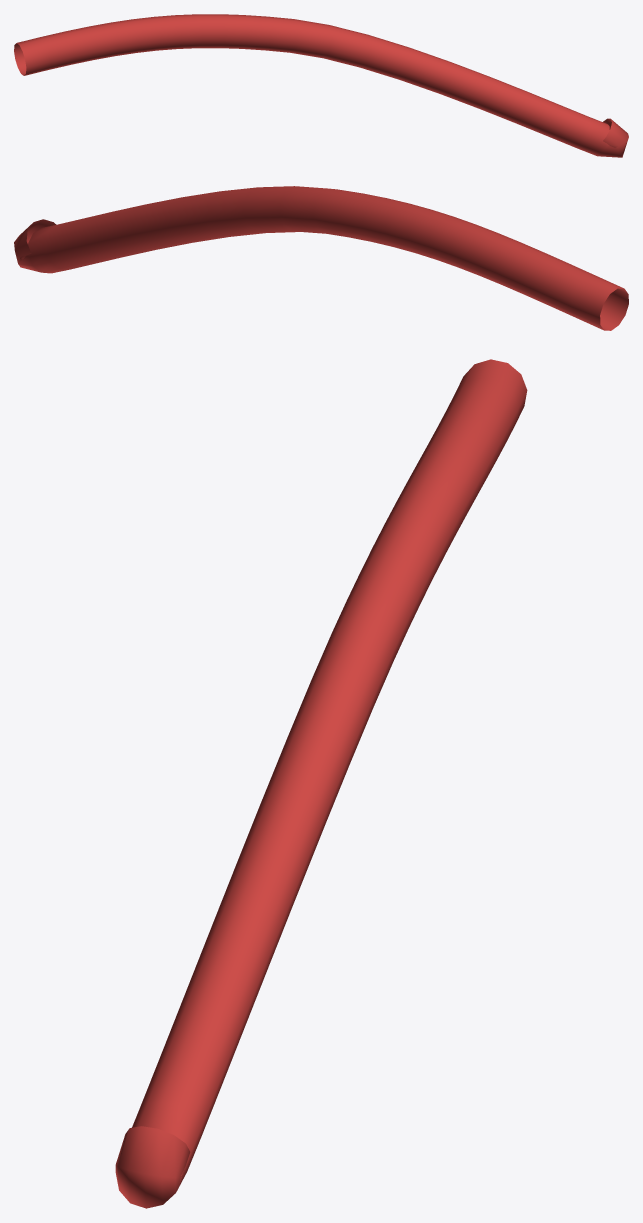
The picture shows the model from 3 angles, top to bottom: view 1: azimuth 30°, elevation 25°; view 2: azimuth 150°, elevation 25°; view 3: azimuth 270°, elevation 25°; orthographic projection. The views are drawn at different scales.
Parts seen in each view (by area): view 1: 左侧腕背侧动脉网; view 2: 左侧腕背侧动脉网; view 3: 左侧腕背侧动脉网.
Boxes of the visible parts, x1,y1,x2,y2 form: 左侧腕背侧动脉网: (14, 14, 628, 157); 左侧腕背侧动脉网: (14, 186, 628, 330); 左侧腕背侧动脉网: (115, 359, 527, 1208).
Bounding box in the file's own units: 0.0367 × 0.012 × 0.0125.
